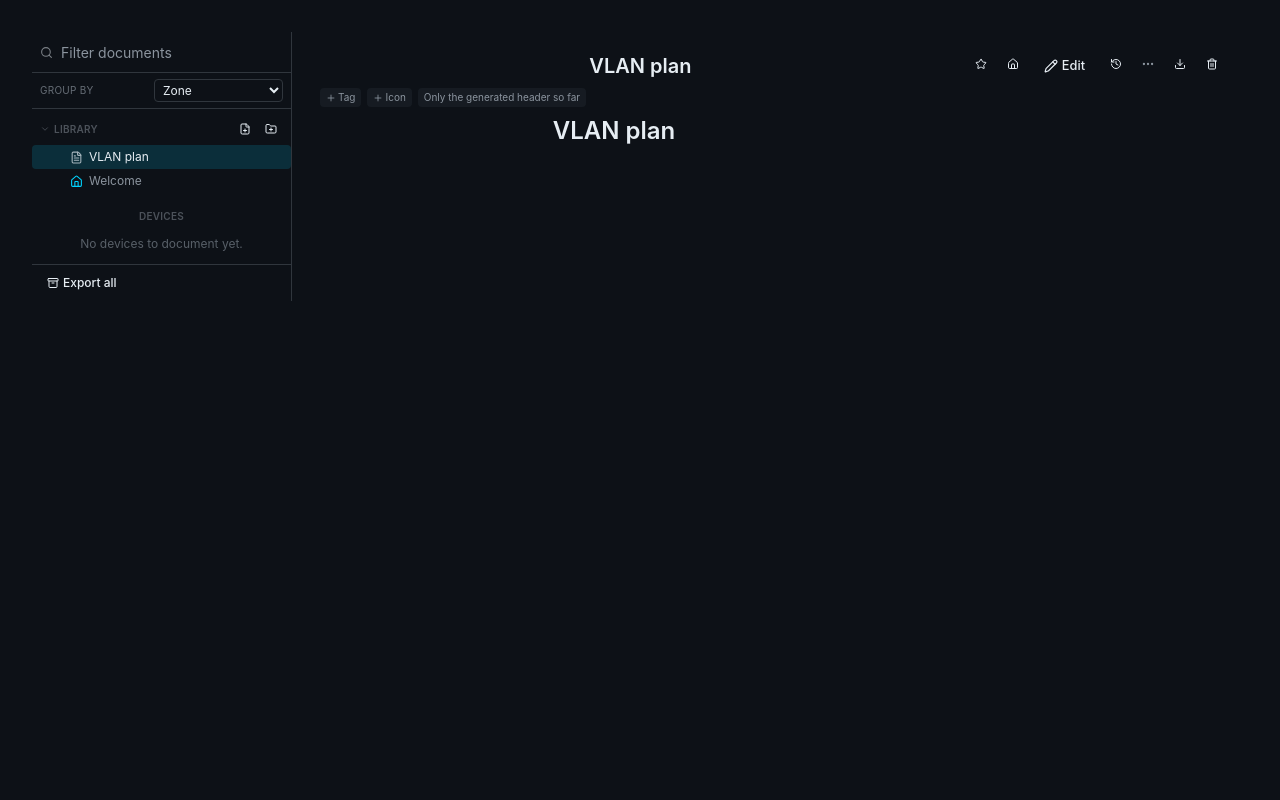
DocumentationView — homepage › leaves the homepage alone when the replacement is cancelled
The width and height of the screenshot is (1280, 800).
Click the button named "Set as homepage".
click(1013, 64)  # box [1001,52,1025,76]
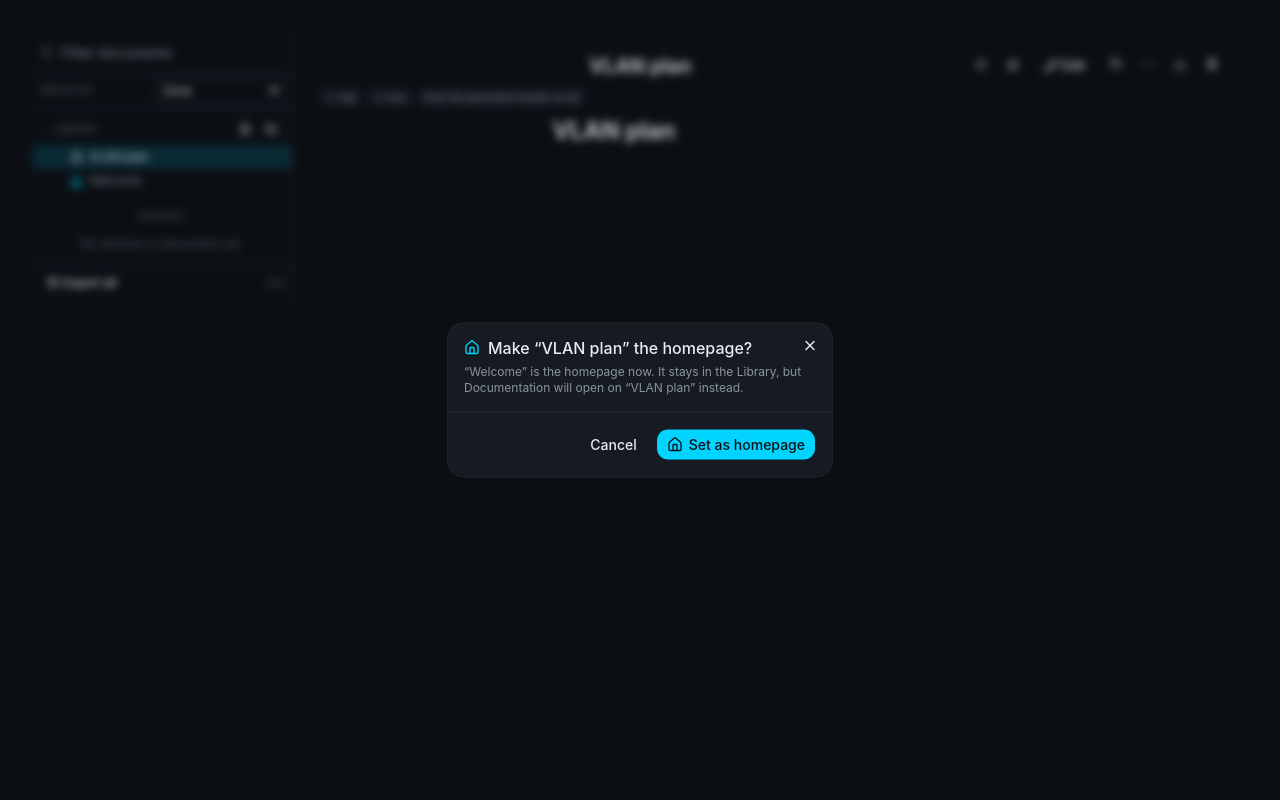
Now the dialog is shown, box [448,324,832,476]
Click the button "Cancel".
click(614, 444)  # box [579,428,648,460]
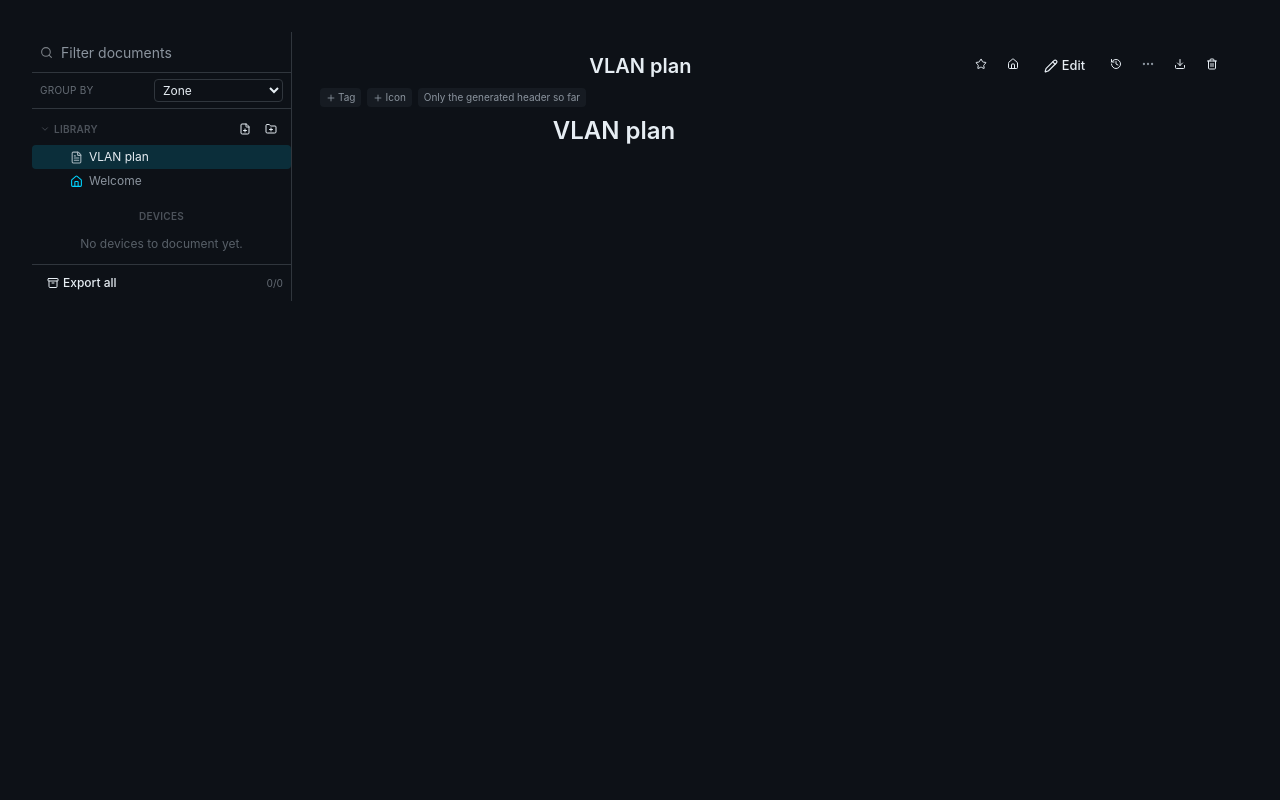
Now the dialog is gone
